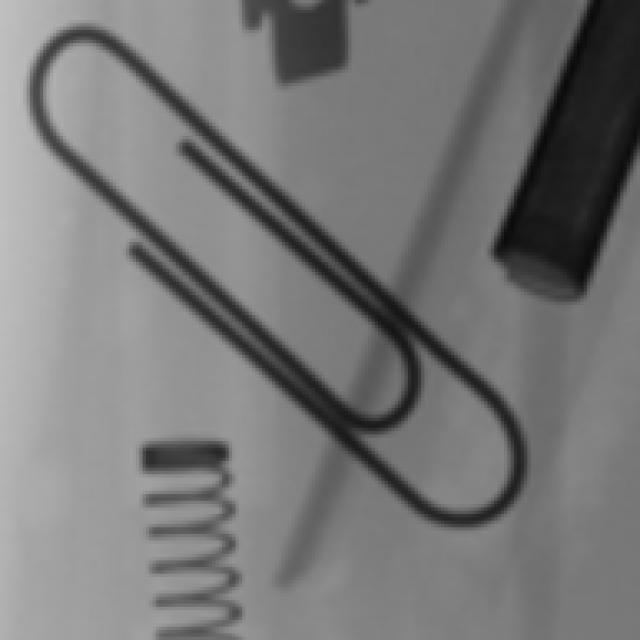BLADE: (248, 1, 358, 105)
